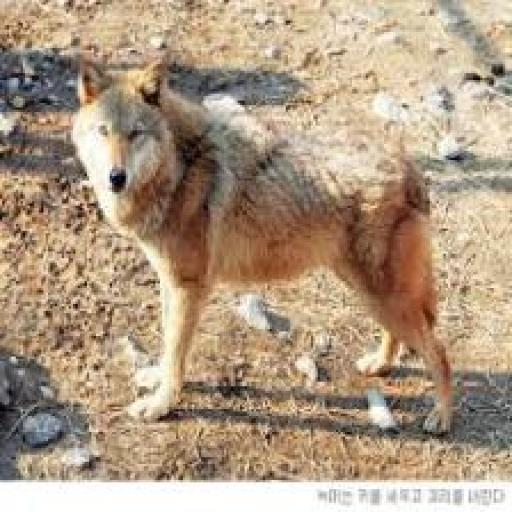wolf: (68, 43, 463, 454)
